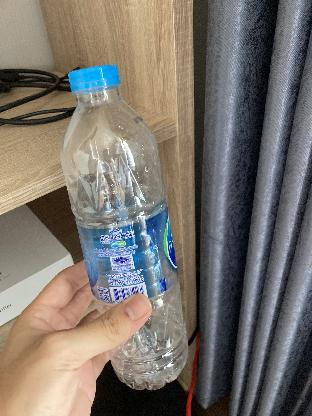Plastic Bottle: (58, 62, 192, 392)
